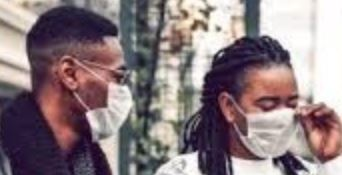with_facemask: (85, 64, 140, 137), (243, 106, 306, 156)
